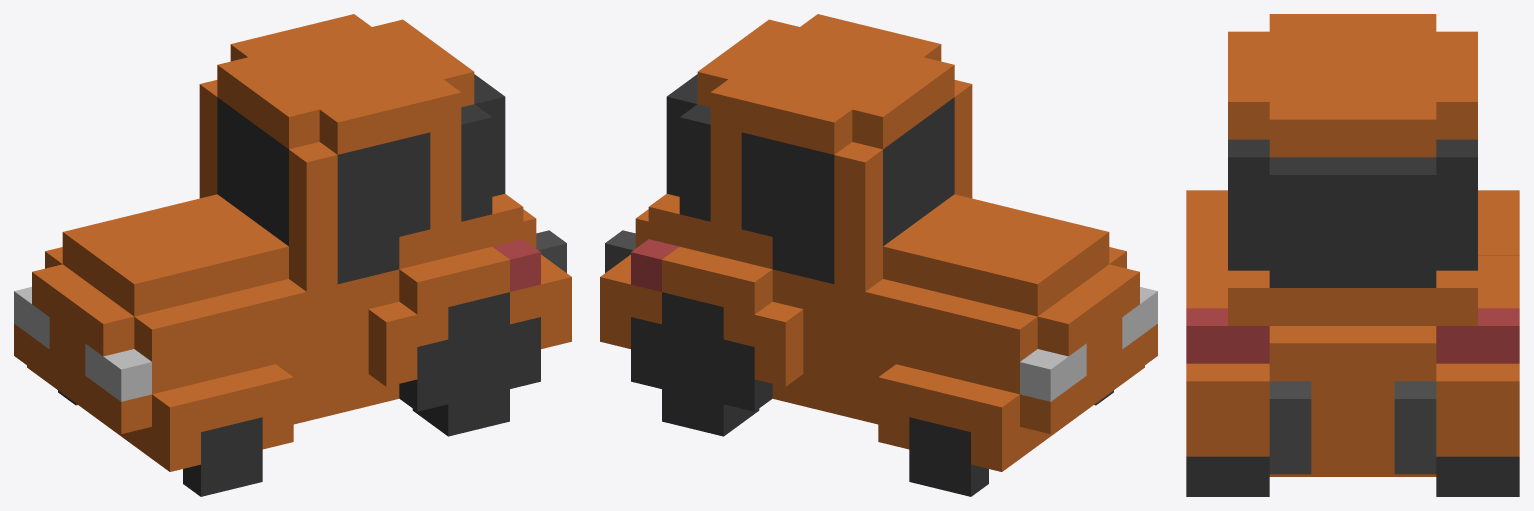
The model's file is tractor-orange.gltf.
3 views of the same model, side by side, from view 1: azimuth 30°, elevation 25°; view 2: azimuth 150°, elevation 25°; view 3: azimuth 270°, elevation 25° (orthographic). The views are drawn at different scales.
Parts seen in each view (by area): view 1: model, wheels; view 2: model, wheels; view 3: model, wheels.
Part boxes in pixels (<box>): model: <box>14,14,571,471</box>; wheels: <box>58,292,540,496</box>; model: <box>600,14,1157,471</box>; wheels: <box>631,292,1113,496</box>; model: <box>1186,14,1519,476</box>; wheels: <box>1186,456,1519,496</box>.
Bounding box in the file's own units: 1.5 × 1 × 0.8.
2 materials, 2 textured.
